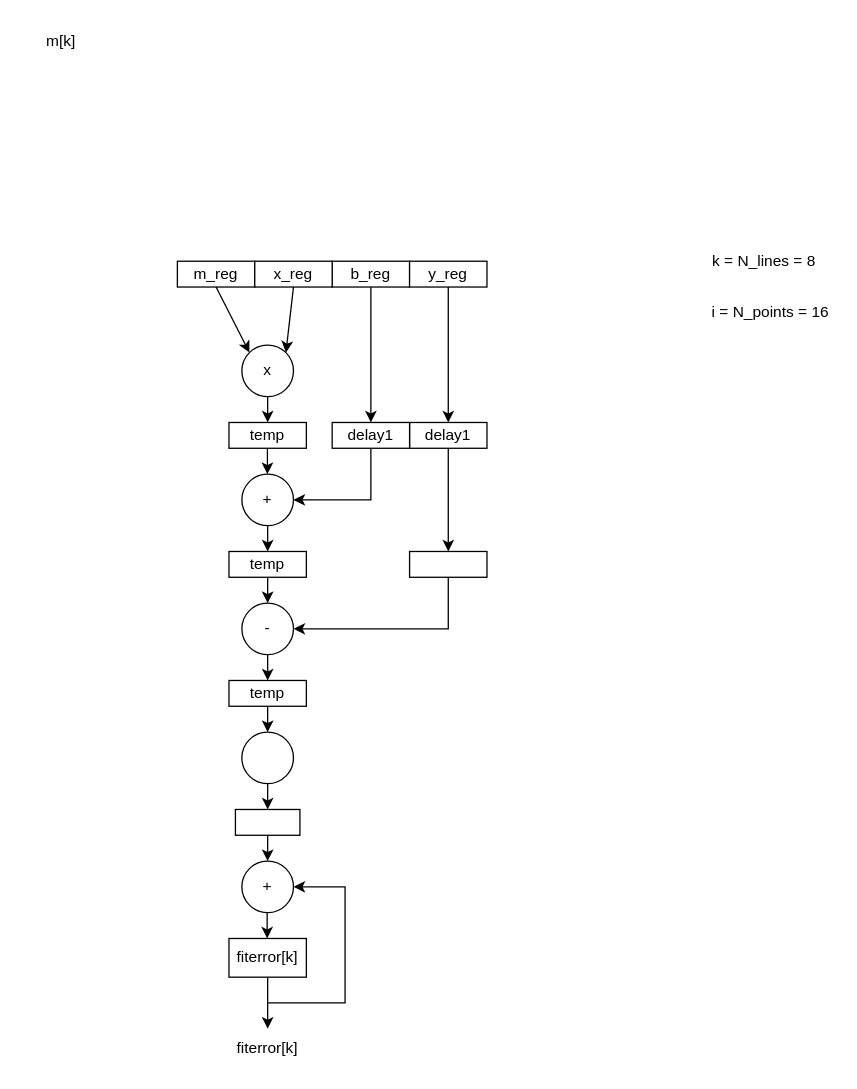
The diagram is 857 pixels wide and 1089 high, and some of its shapes have lost their labels. Each missing label, with the box of its shape:
abs: (241, 731, 293, 784)
delay2: (408, 550, 487, 577)
err[k][0]: (234, 808, 300, 835)
